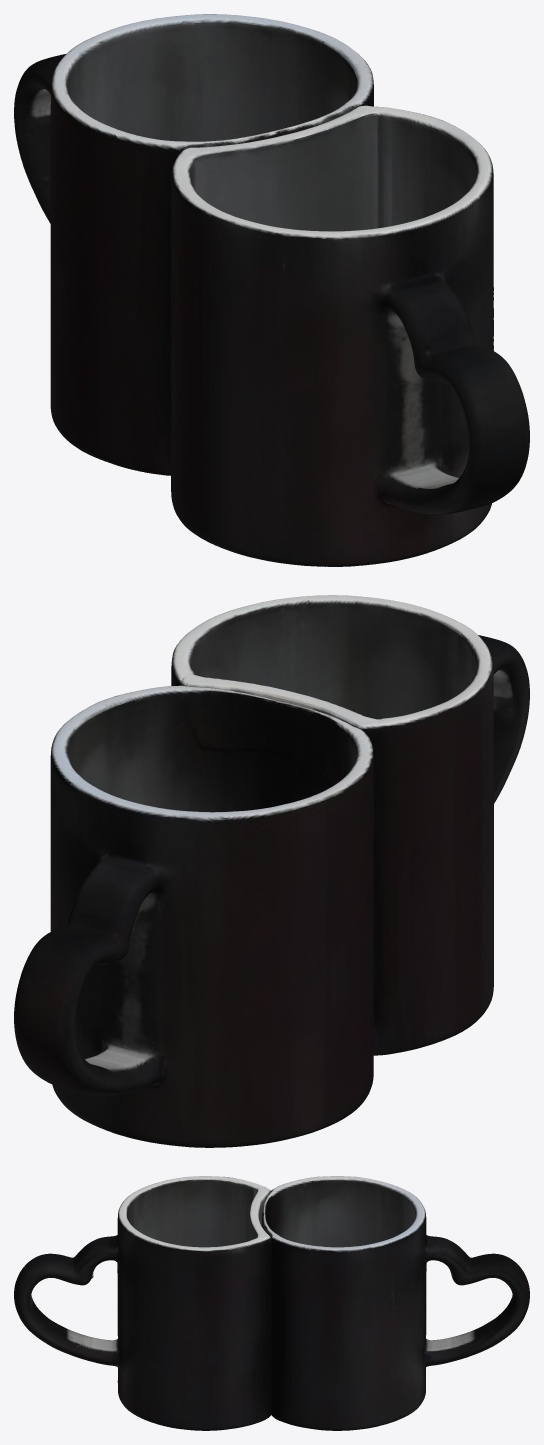
Rendered from mug_couple_texture.glb.
The picture shows the model from 3 angles, top to bottom: view 1: azimuth 30°, elevation 25°; view 2: azimuth 150°, elevation 25°; view 3: azimuth 270°, elevation 25°; orthographic projection. The views are drawn at different scales.
Parts seen in each view (by area): view 1: tripo_node_19d348bb-44a5-4e14-b19c-3e3c42d7cfa6; view 2: tripo_node_19d348bb-44a5-4e14-b19c-3e3c42d7cfa6; view 3: tripo_node_19d348bb-44a5-4e14-b19c-3e3c42d7cfa6.
Boxes of the visible parts, <box> form: tripo_node_19d348bb-44a5-4e14-b19c-3e3c42d7cfa6: <box>14,14,529,566</box>; tripo_node_19d348bb-44a5-4e14-b19c-3e3c42d7cfa6: <box>14,595,529,1147</box>; tripo_node_19d348bb-44a5-4e14-b19c-3e3c42d7cfa6: <box>14,1176,529,1430</box>.
Bounding box in the file's own units: 0.3449 × 0.3908 × 1.
1 material, 1 textured.
